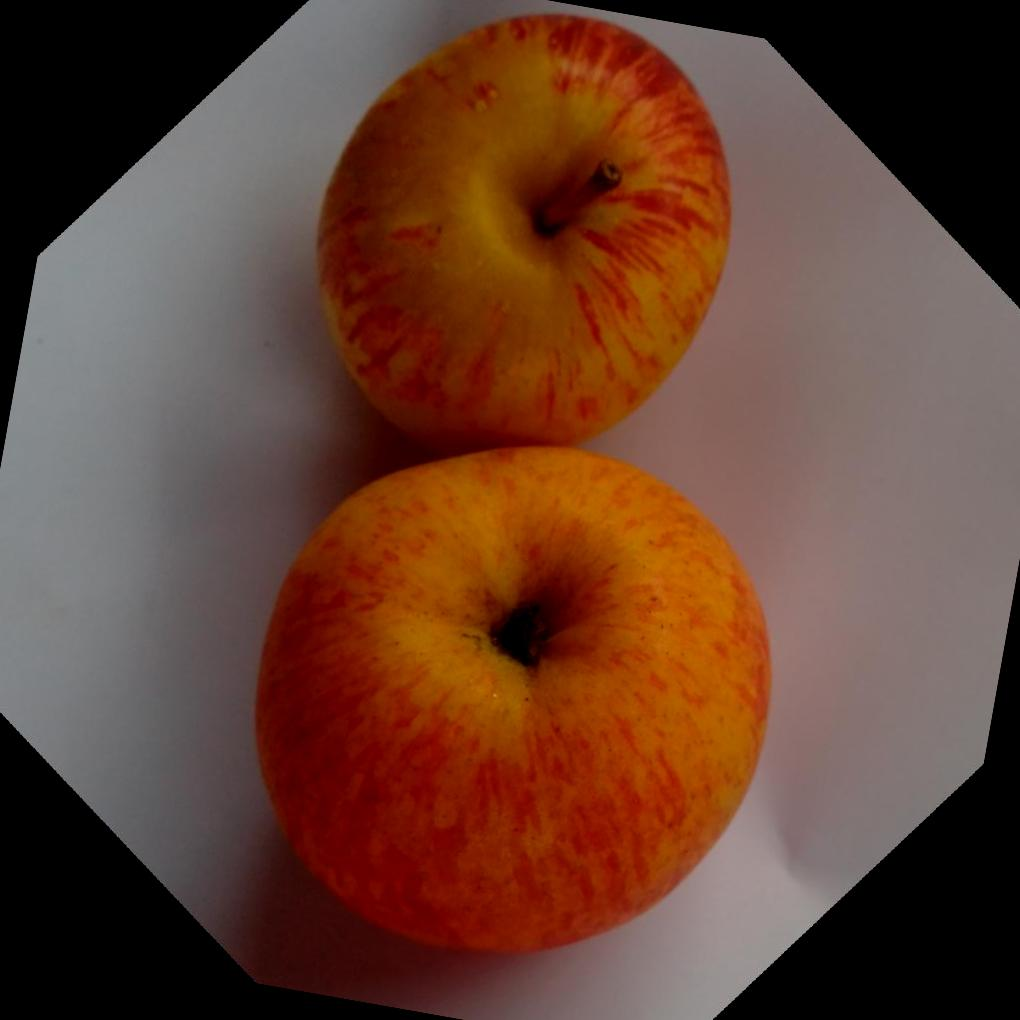FreshGuava: (253, 13, 776, 958)
